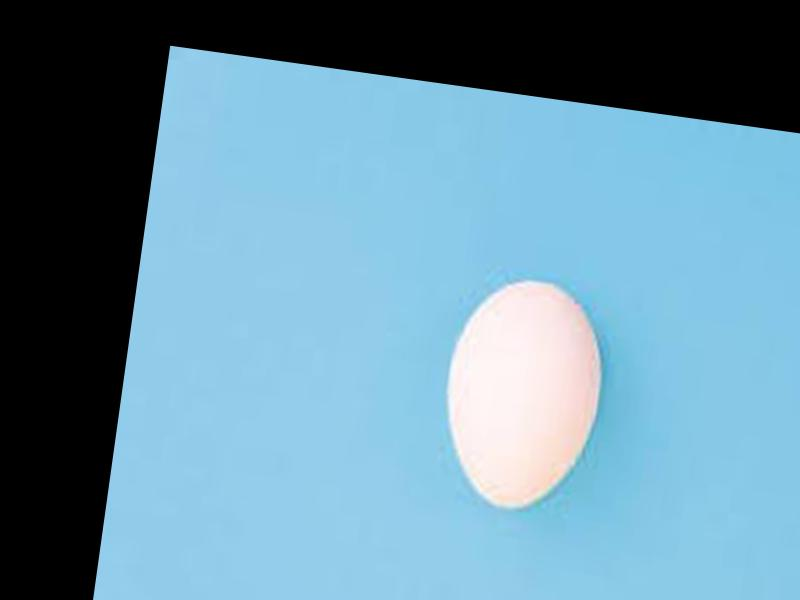Eggs: (433, 271, 615, 523)
